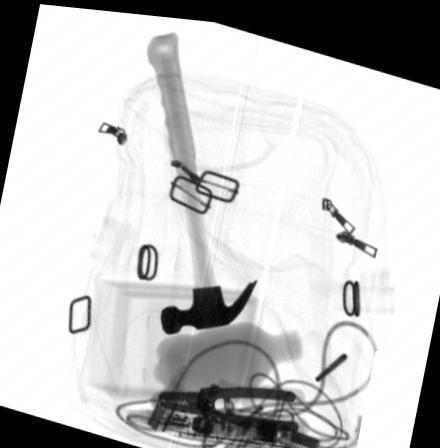Hammer: (144, 26, 258, 330)
Pliers: (159, 378, 298, 424)
